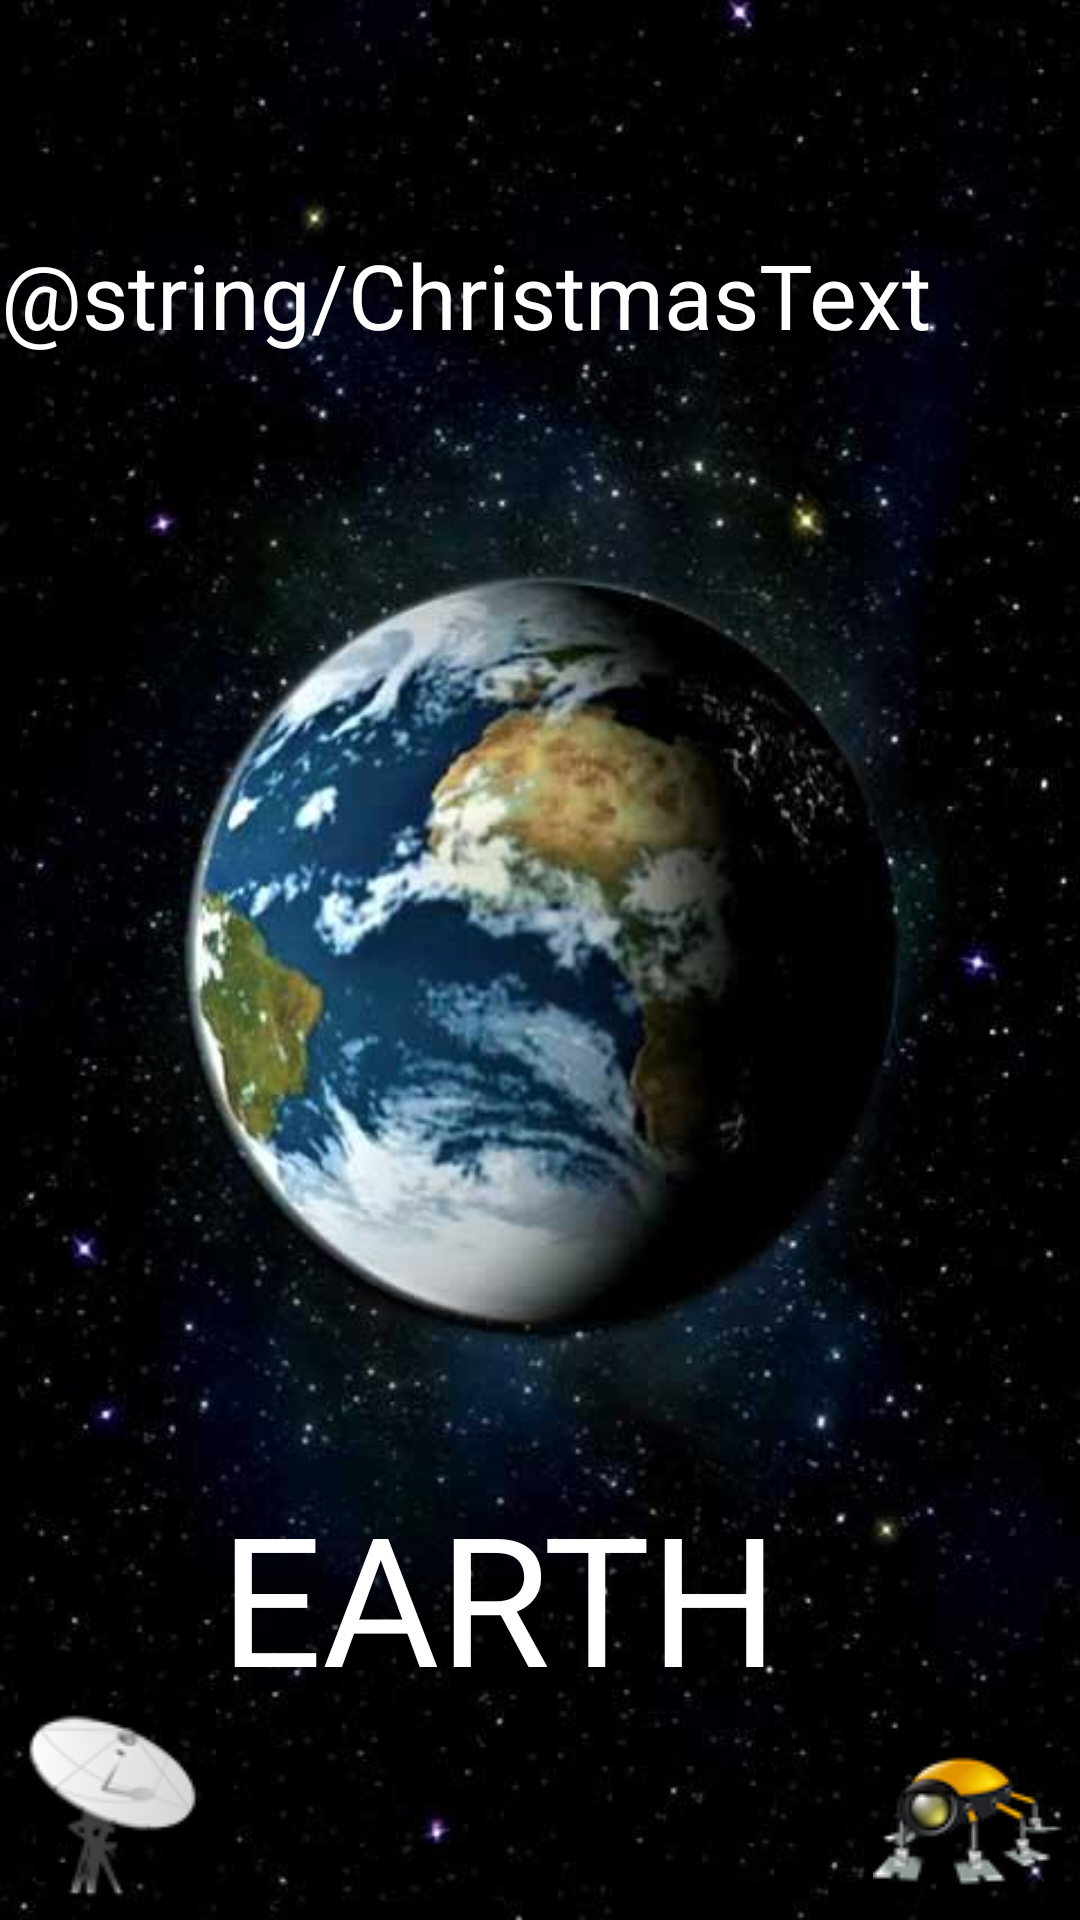

Point at icon controls on the screen. Image size 1080w x 1920h, points as point (x, y).
insect robot: point (969, 1803)
satellite vista: point (117, 1808)
